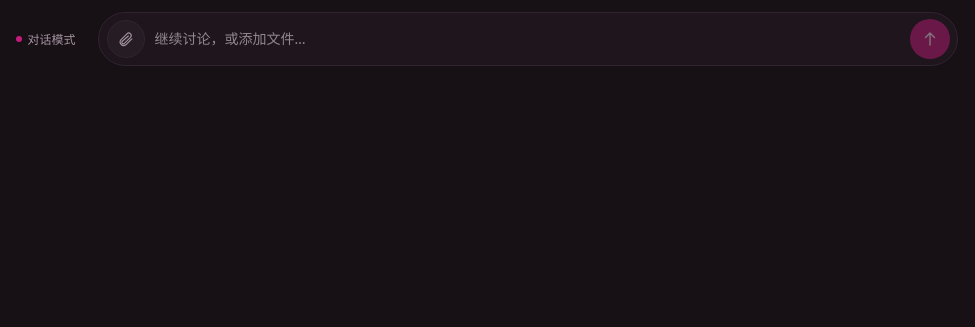
it: 场景 4：普通对话页发送失败（§11.4） › 【组件/DOM】失败后页面上直接看得见本次真实原因
This screenshot has width=975, height=327.
Type "这段字发不出去" into the text box with id "composer-input".
click(527, 39); type("这段字发不出去")  # box [150,26,904,52]
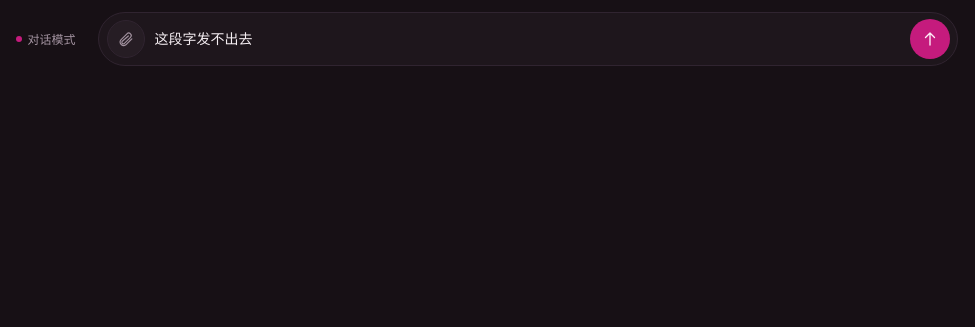
Click the button with class "send-btn".
click(930, 39)  # box [910,19,950,59]
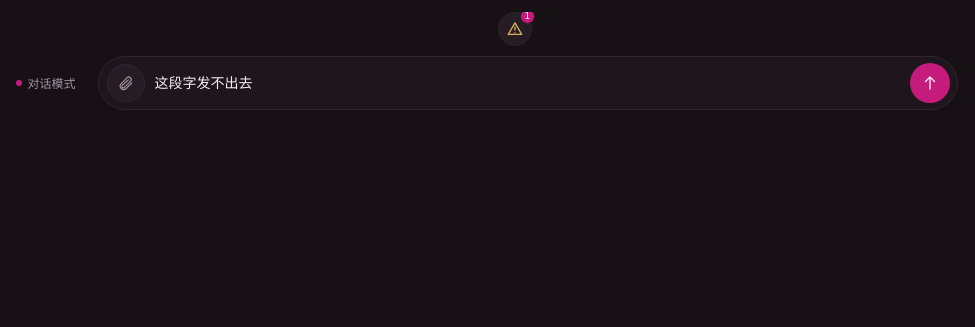
Check: the button with class "entry-btn" is shown
Click the button with class "entry-btn".
click(515, 29)  # box [498,12,532,46]
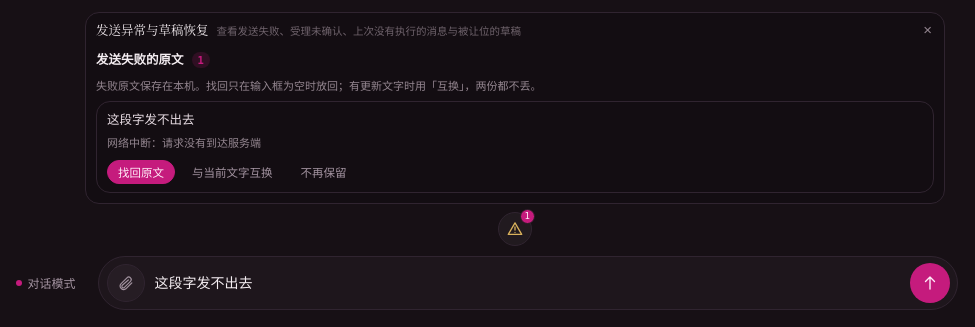
Check: the text "网络中断" is shown, box [107,135,261,150]
